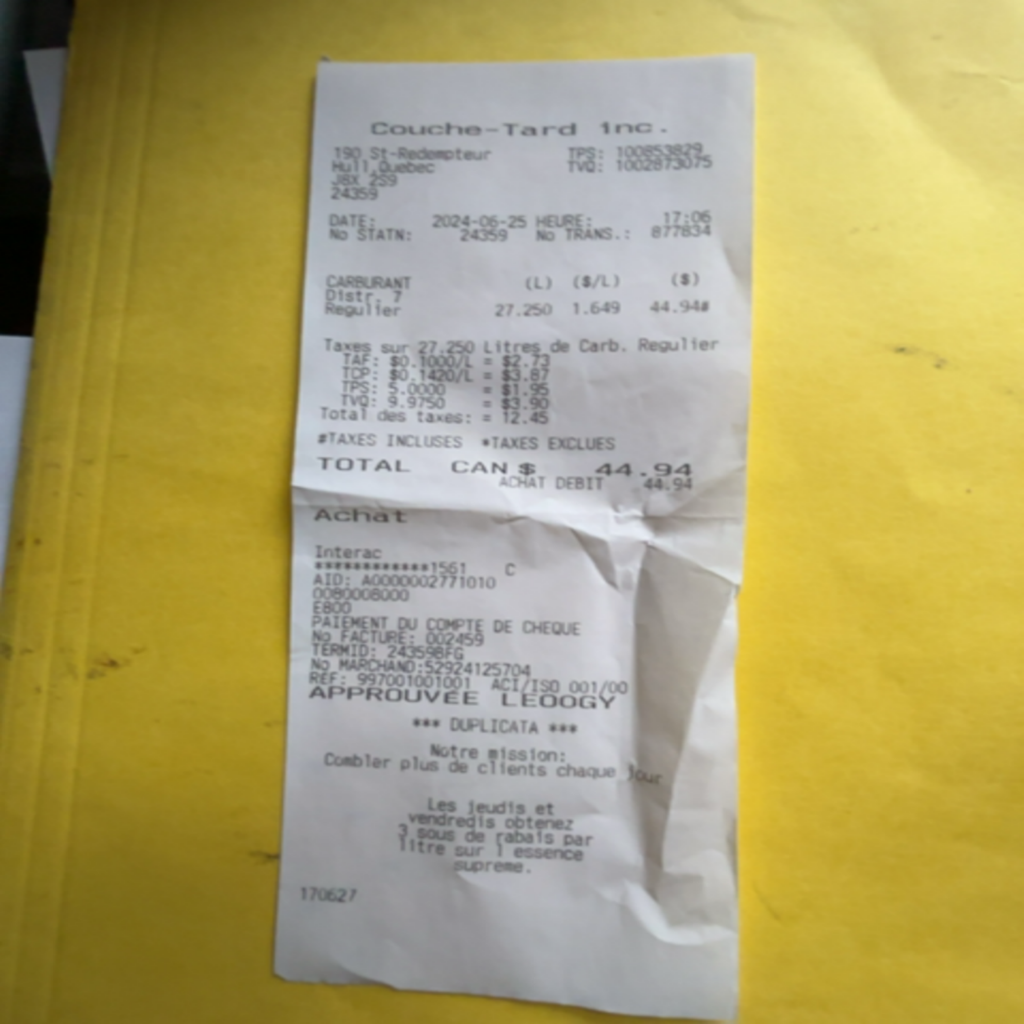recipt: (273, 61, 753, 1013)
